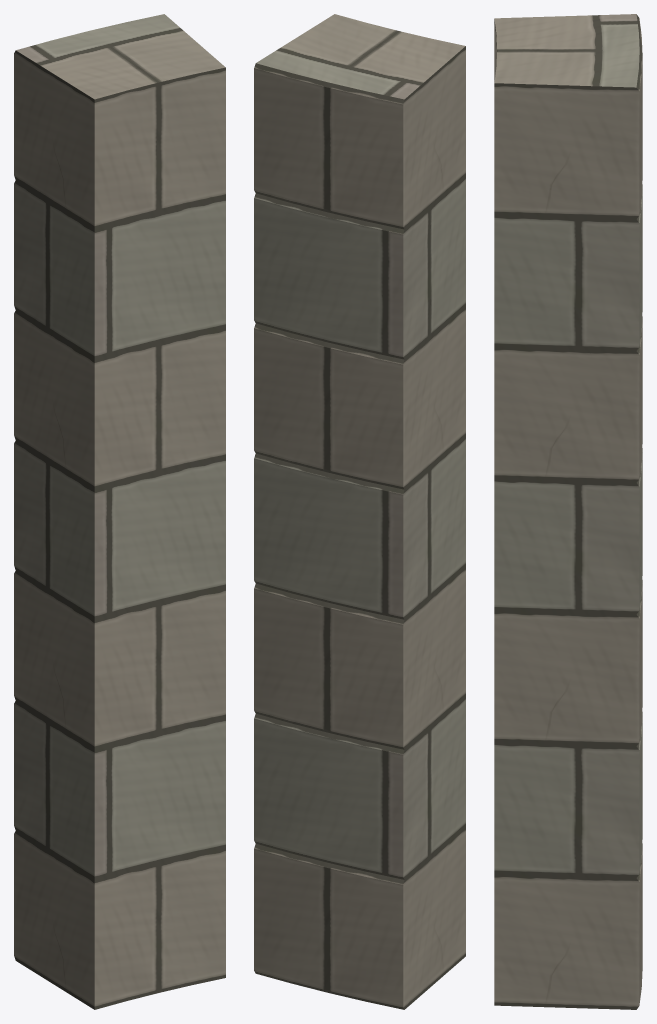
Rendered from Furn_Tower3_R35_End.fbx.
3 views of the same model, side by side, from view 1: azimuth 30°, elevation 25°; view 2: azimuth 150°, elevation 25°; view 3: azimuth 270°, elevation 25° (orthographic).
Visible parts, largest first — view 1: Furn_Tower3_R35_End; view 2: Furn_Tower3_R35_End; view 3: Furn_Tower3_R35_End.
Boxes of the visible parts, x1,y1,x2,y2 form: Furn_Tower3_R35_End: [14, 14, 225, 1009]; Furn_Tower3_R35_End: [254, 14, 465, 1009]; Furn_Tower3_R35_End: [494, 14, 642, 1009].
Size of the model in its own units: 0.6 by 3.5 by 0.5096.
